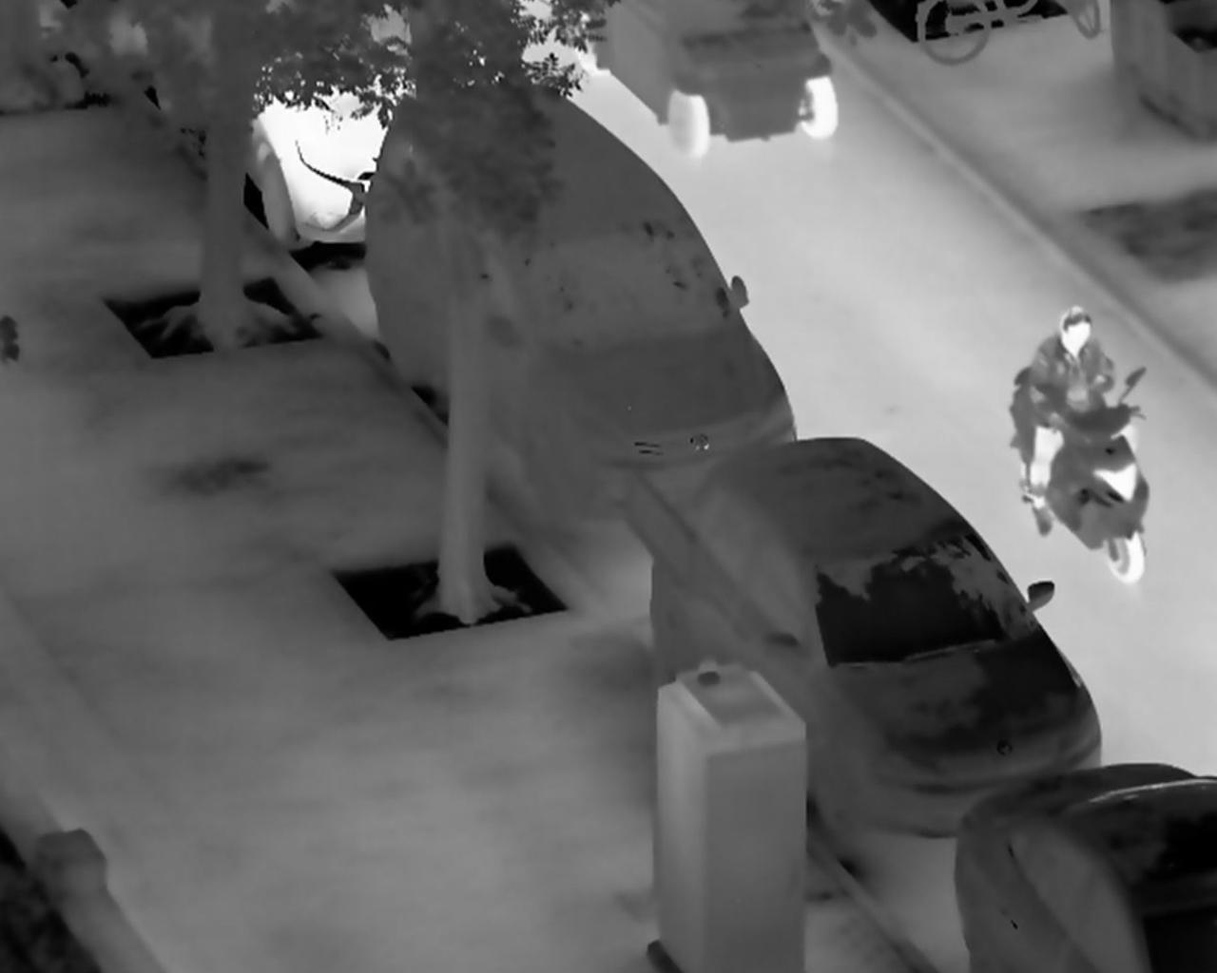person: (1024, 301, 1120, 543)
